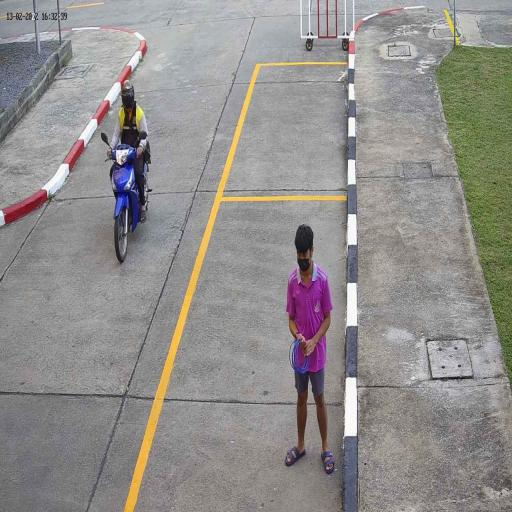motorcycle: (108, 141, 152, 265)
